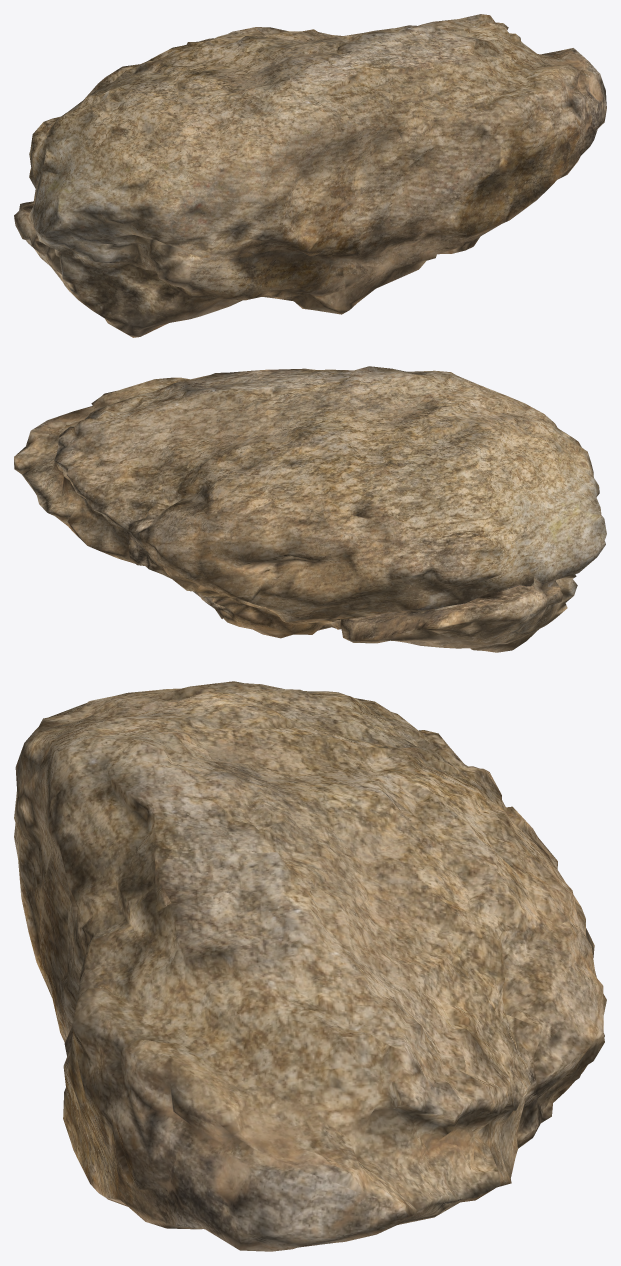
The model's file is namaqualand_boulder_05-near.glb.
3 renders of one model, top to bottom at view 1: azimuth 30°, elevation 25°; view 2: azimuth 150°, elevation 25°; view 3: azimuth 270°, elevation 25°, orthographic. The views are drawn at different scales.
Parts seen in each view (by area): view 1: namaqualand_boulder_05; view 2: namaqualand_boulder_05; view 3: namaqualand_boulder_05.
Part boxes in pixels (x1=…): namaqualand_boulder_05: x1=14, y1=14, x2=606, y2=337; namaqualand_boulder_05: x1=14, y1=366, x2=606, y2=652; namaqualand_boulder_05: x1=14, y1=681, x2=606, y2=1251.
Bounding box in the file's own units: 2 × 0.7826 × 1.09.
1 material, 1 textured.
